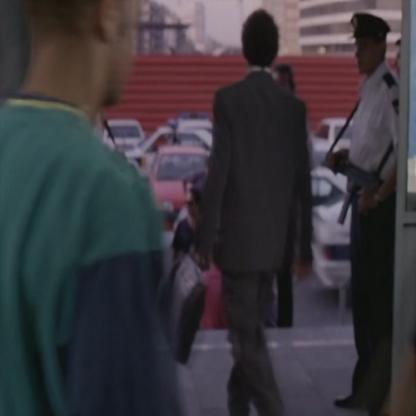Guns: (319, 150, 385, 245)
